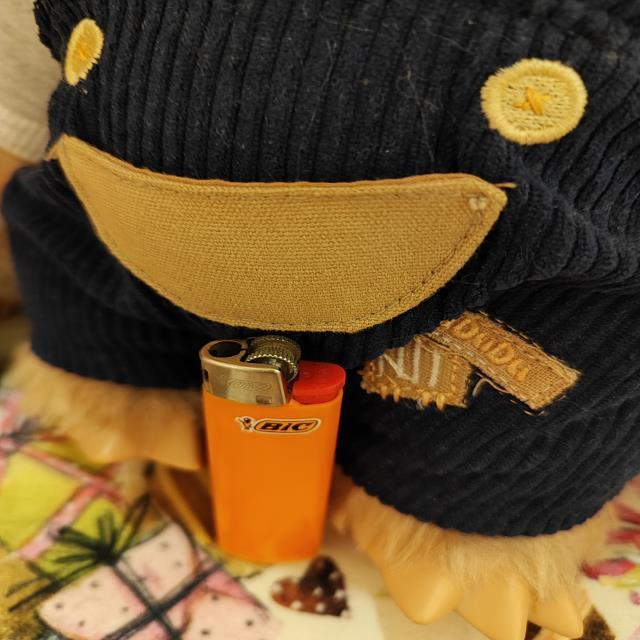lighter: (201, 340, 344, 564)
